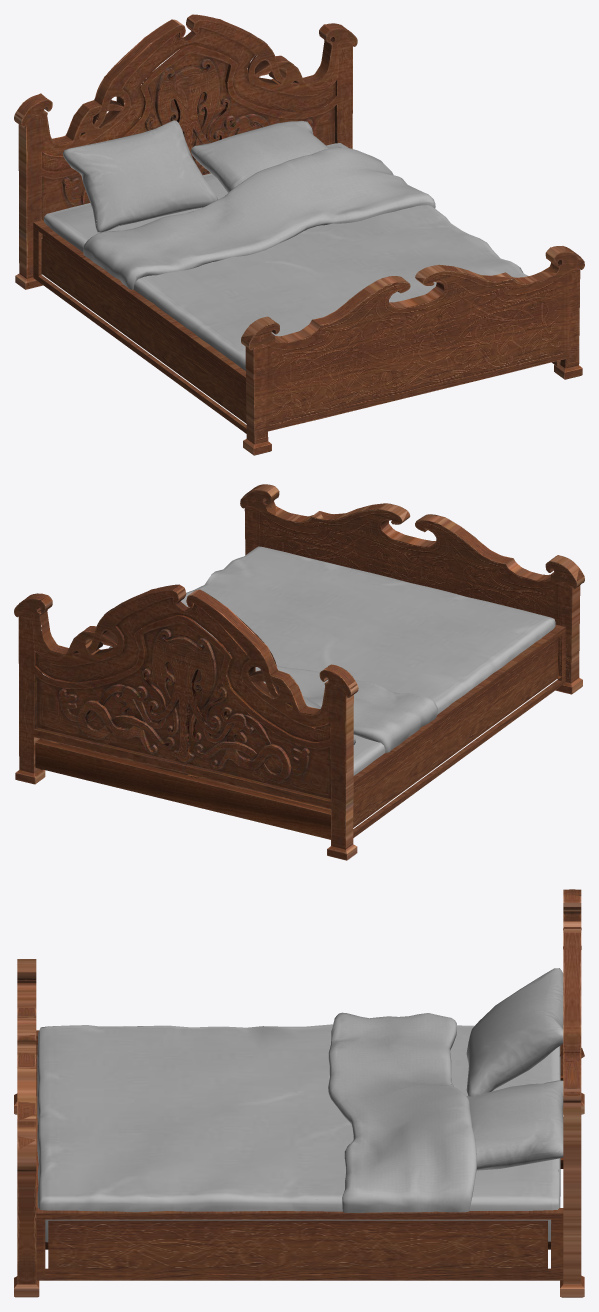
The model's file is bed-6.glb.
3 renders of one model, top to bottom at view 1: azimuth 30°, elevation 25°; view 2: azimuth 150°, elevation 25°; view 3: azimuth 270°, elevation 25°, orthographic. The views are drawn at different scales.
Parts seen in each view (by area): view 1: Object_5, Object_6, Object_3, Object_4, Object_8, Object_2, Object_7; view 2: Object_6, Object_3, Object_5, Object_2, Object_9, Object_7, Object_4; view 3: Object_3, Object_2, Object_4, Object_8, Object_5, Object_7, Object_6.
Part boxes in pixels (x1,y1,x2,y2): Object_5: (241, 246, 584, 455); Object_6: (19, 14, 357, 278); Object_3: (44, 143, 528, 370); Object_4: (83, 147, 435, 289); Object_8: (63, 120, 328, 232); Object_2: (33, 219, 560, 433); Object_7: (14, 14, 353, 289); Object_6: (14, 584, 355, 849); Object_3: (181, 546, 555, 775); Object_5: (240, 484, 584, 694); Object_2: (34, 624, 565, 837); Object_9: (35, 654, 561, 839); Object_7: (15, 584, 358, 860); Object_4: (109, 646, 437, 752); Object_3: (37, 1024, 560, 1242); Object_2: (36, 1030, 563, 1280); Object_4: (328, 1012, 476, 1212); Object_8: (466, 968, 563, 1170); Object_5: (14, 959, 39, 1297); Object_7: (560, 889, 584, 1297); Object_6: (560, 889, 584, 1088).
Bounding box in the file's own units: 11.34 × 7.32 × 13.81.
Materials: 7 (7 with a texture image).
